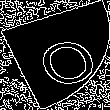O_N: (17, 23, 93, 87)
